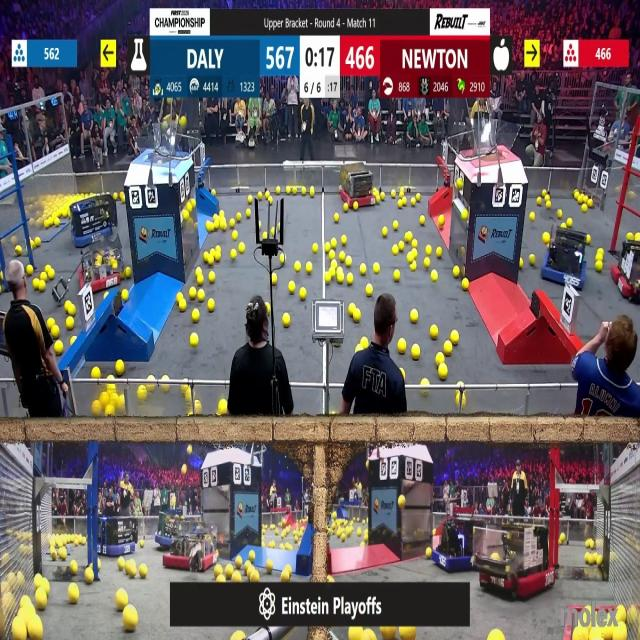ball_airborne: (399, 627, 413, 639), (349, 627, 361, 639), (457, 179, 464, 189), (180, 115, 186, 126), (184, 466, 190, 476)
ball_ground: (125, 609, 138, 633), (28, 621, 40, 640), (115, 590, 126, 610), (36, 591, 47, 610), (69, 586, 79, 604), (115, 359, 124, 375), (218, 402, 227, 418), (439, 363, 448, 378), (618, 606, 627, 621), (250, 569, 260, 582), (128, 564, 138, 577), (55, 342, 64, 356), (93, 404, 102, 418), (397, 340, 405, 355), (490, 630, 502, 640), (65, 303, 74, 316), (429, 324, 437, 338), (140, 564, 148, 578), (87, 569, 95, 583), (412, 345, 420, 359), (195, 403, 202, 418), (445, 343, 453, 356), (412, 310, 419, 324), (452, 332, 459, 346), (364, 284, 372, 296), (93, 366, 101, 378), (198, 289, 206, 301), (70, 562, 78, 574), (435, 353, 443, 365), (225, 565, 233, 577), (60, 548, 68, 560), (189, 335, 196, 348), (283, 314, 290, 327), (51, 325, 58, 338), (282, 570, 290, 581), (236, 557, 244, 568), (197, 276, 205, 287), (106, 406, 114, 417), (67, 318, 74, 330), (347, 274, 354, 286), (208, 300, 215, 312), (288, 282, 295, 294), (360, 338, 367, 350), (338, 273, 345, 285), (234, 571, 242, 581), (122, 269, 130, 279), (192, 310, 198, 323), (393, 271, 400, 282), (179, 301, 186, 312), (354, 311, 361, 322), (121, 289, 127, 301), (299, 288, 305, 300), (209, 272, 215, 284), (272, 274, 278, 286), (424, 256, 430, 268), (117, 558, 123, 570), (572, 631, 580, 640), (596, 263, 603, 273), (374, 265, 381, 275), (403, 233, 410, 243), (215, 565, 222, 575), (28, 266, 34, 277), (462, 279, 468, 290), (542, 233, 548, 244), (360, 266, 366, 277), (530, 254, 536, 265), (39, 281, 45, 292), (189, 288, 195, 299), (326, 274, 332, 285), (454, 268, 460, 279), (349, 305, 355, 316), (118, 191, 124, 202), (217, 574, 225, 582), (216, 220, 223, 229), (587, 538, 594, 547), (308, 264, 314, 274), (435, 248, 441, 258), (268, 560, 274, 570), (294, 263, 300, 273), (35, 238, 41, 248), (426, 246, 432, 256), (392, 220, 398, 230), (232, 250, 238, 260), (47, 270, 53, 280), (15, 245, 21, 255), (239, 244, 245, 254), (426, 549, 432, 559), (330, 239, 336, 249), (214, 251, 220, 261), (328, 250, 334, 260), (408, 252, 414, 262), (204, 252, 210, 262), (207, 221, 213, 231), (46, 318, 52, 328), (324, 243, 330, 253), (51, 551, 57, 561), (186, 211, 192, 221), (588, 200, 594, 210), (596, 556, 602, 566), (340, 252, 347, 260), (422, 378, 429, 386), (596, 252, 603, 260), (431, 271, 436, 282), (347, 255, 352, 266), (233, 232, 239, 241), (392, 246, 398, 255), (557, 209, 563, 218), (382, 229, 388, 238), (335, 213, 341, 222), (40, 272, 46, 281), (342, 237, 348, 246), (560, 533, 566, 542), (231, 219, 237, 228), (379, 190, 385, 199), (186, 202, 192, 211), (440, 216, 445, 226), (398, 242, 403, 252), (34, 280, 39, 290), (586, 554, 591, 564), (270, 540, 277, 547), (420, 216, 426, 224), (411, 264, 417, 272), (330, 262, 336, 270), (328, 575, 334, 583), (194, 269, 200, 277), (396, 200, 402, 208), (276, 186, 282, 194), (583, 205, 589, 213), (310, 188, 316, 196), (148, 374, 154, 382), (270, 226, 276, 234), (216, 245, 222, 253), (353, 203, 358, 212), (413, 240, 418, 249), (530, 212, 535, 221), (313, 244, 318, 253), (250, 552, 255, 561), (412, 199, 417, 208), (587, 236, 592, 245), (243, 210, 249, 217), (70, 338, 76, 345), (536, 199, 541, 207), (545, 201, 550, 209), (567, 218, 572, 226), (520, 258, 524, 268), (140, 539, 145, 547), (391, 190, 396, 198), (264, 233, 269, 241), (356, 345, 361, 353), (257, 191, 262, 199), (177, 291, 182, 299), (342, 538, 347, 546), (56, 218, 61, 226), (398, 190, 403, 198), (44, 220, 49, 228), (280, 254, 284, 263), (268, 305, 272, 314), (364, 534, 368, 543), (344, 205, 349, 212), (219, 210, 224, 217), (269, 199, 274, 206), (98, 561, 102, 569), (248, 197, 252, 205), (113, 191, 117, 199), (358, 531, 362, 539), (0, 286, 4, 294), (0, 273, 4, 281), (281, 532, 285, 540), (287, 543, 292, 549), (363, 529, 368, 535), (417, 193, 421, 200), (400, 368, 404, 375), (280, 542, 284, 549), (266, 191, 270, 198), (544, 193, 548, 200), (360, 541, 364, 547), (188, 412, 192, 418), (561, 222, 565, 228)
goal: (466, 122, 520, 160), (130, 129, 189, 160)
robot_blue: (544, 224, 590, 289), (434, 516, 480, 572), (71, 195, 117, 248), (98, 517, 136, 556)
robot_red: (478, 520, 554, 601), (165, 520, 218, 572), (82, 236, 126, 291), (611, 233, 640, 303), (338, 162, 376, 206)
